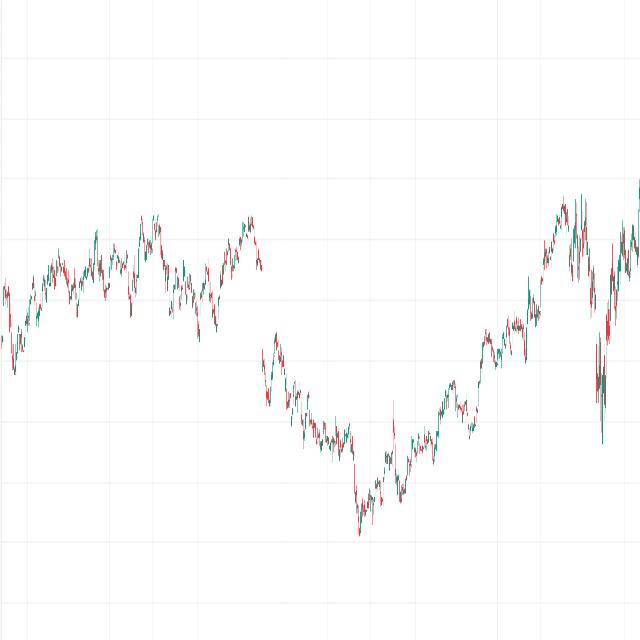Ascending-Triangle: (0, 244, 83, 430)
Rounding-Bottom: (271, 315, 486, 548), (159, 204, 245, 348)
